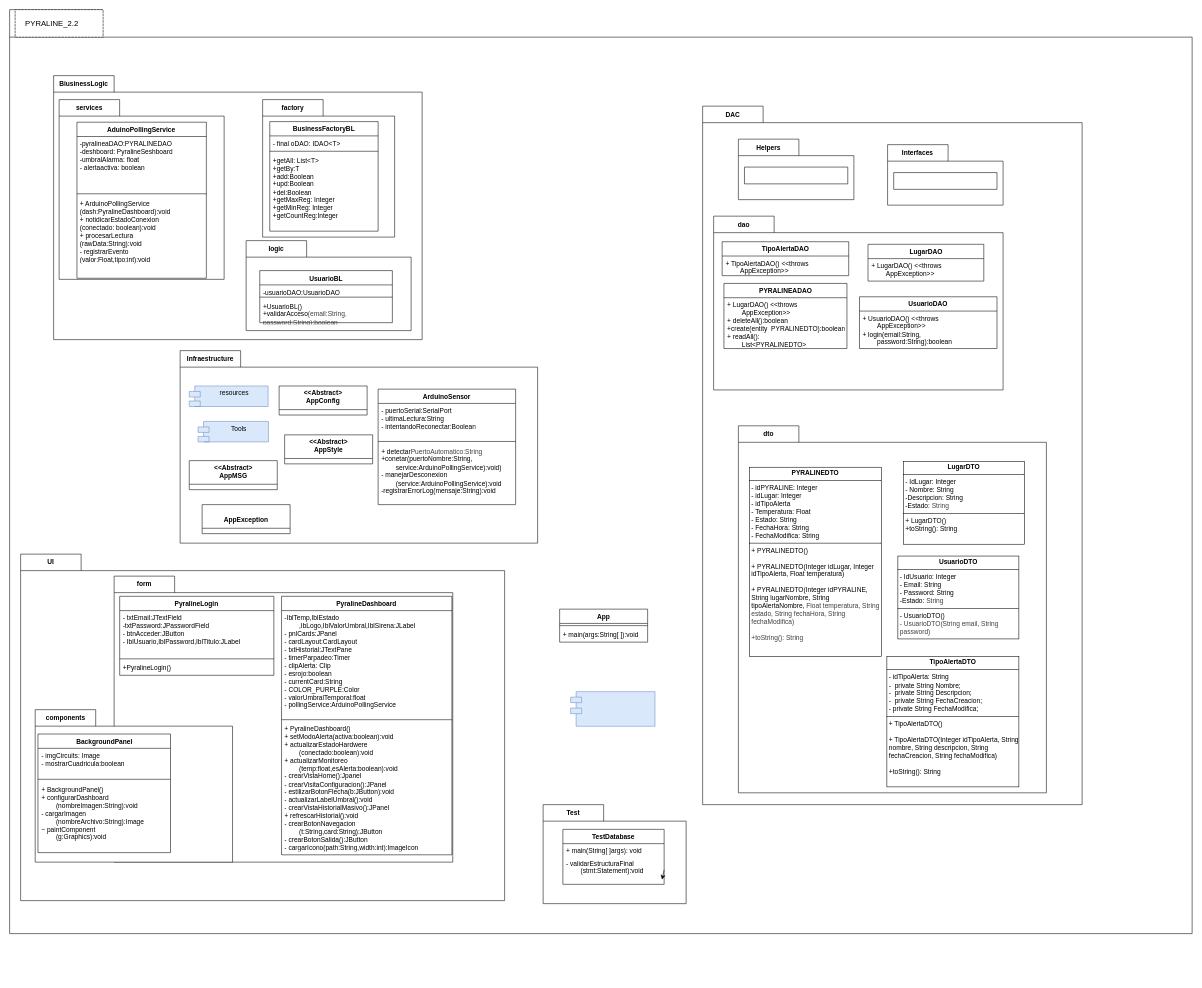
This 1202x988 diagram has some shape labels left out. The shapes that lost their labels are listed below. From the top down, each one's centre as x and y in pixels, then its label:
At point 796,175: "DataHelperSQLiteDAO".
At point 945,180: "<<Interface>> IDAO".
At point 612,708: "Storage".
